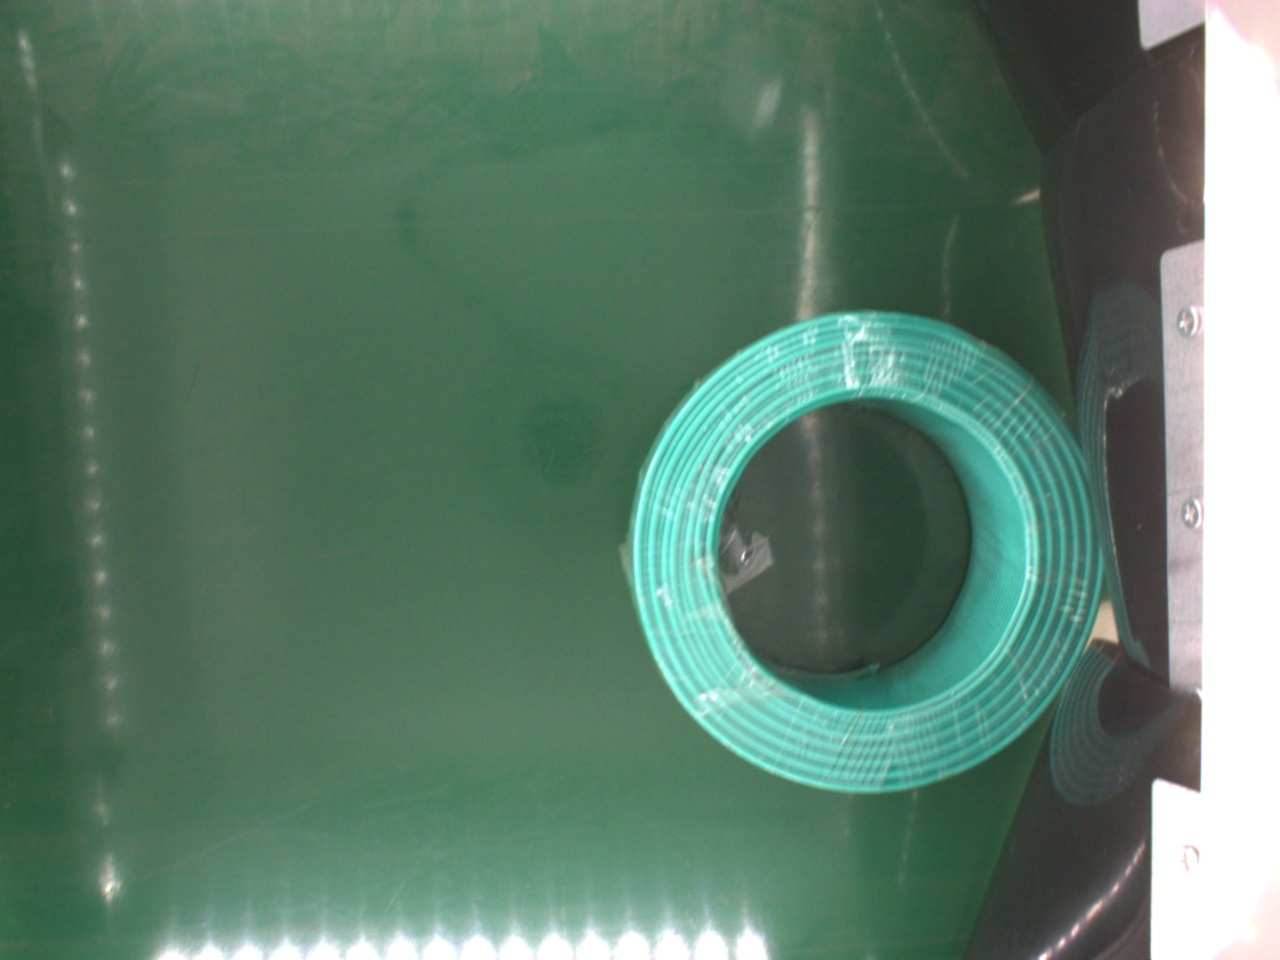green: (630, 312, 1102, 797)
